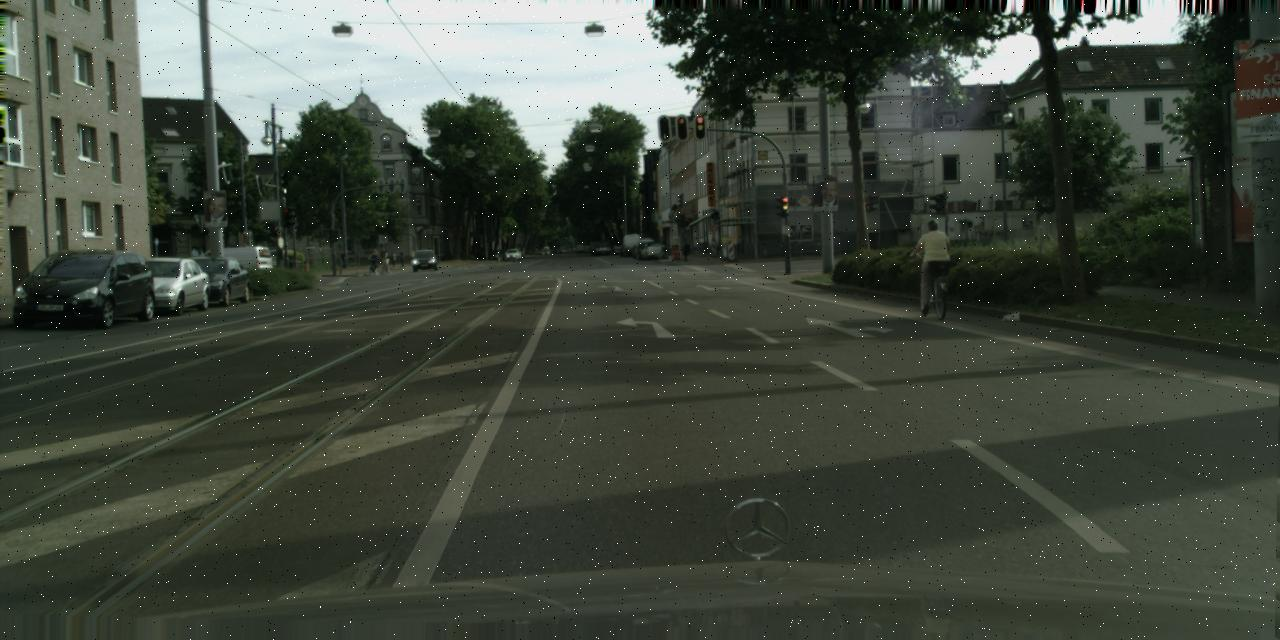ped: (916, 220, 950, 304), (369, 248, 378, 271), (380, 248, 389, 270), (390, 252, 396, 266), (399, 250, 404, 266)
